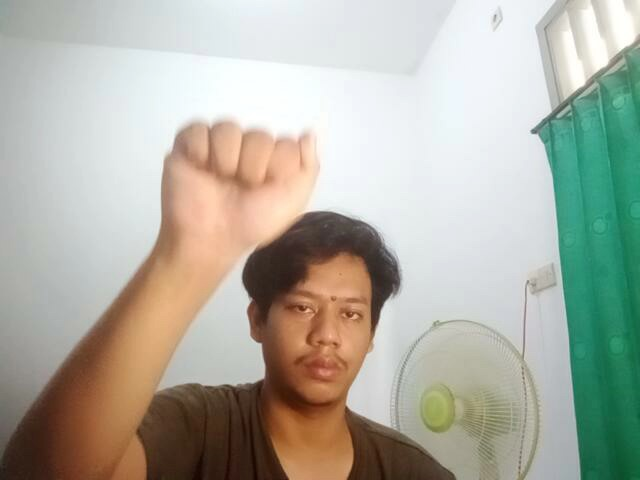A: (148, 107, 323, 256)
